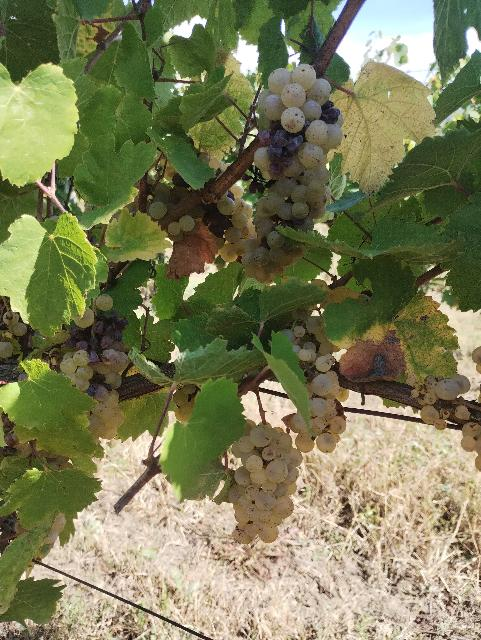grapes: (242, 64, 344, 282), (281, 308, 349, 454), (229, 420, 302, 544)
